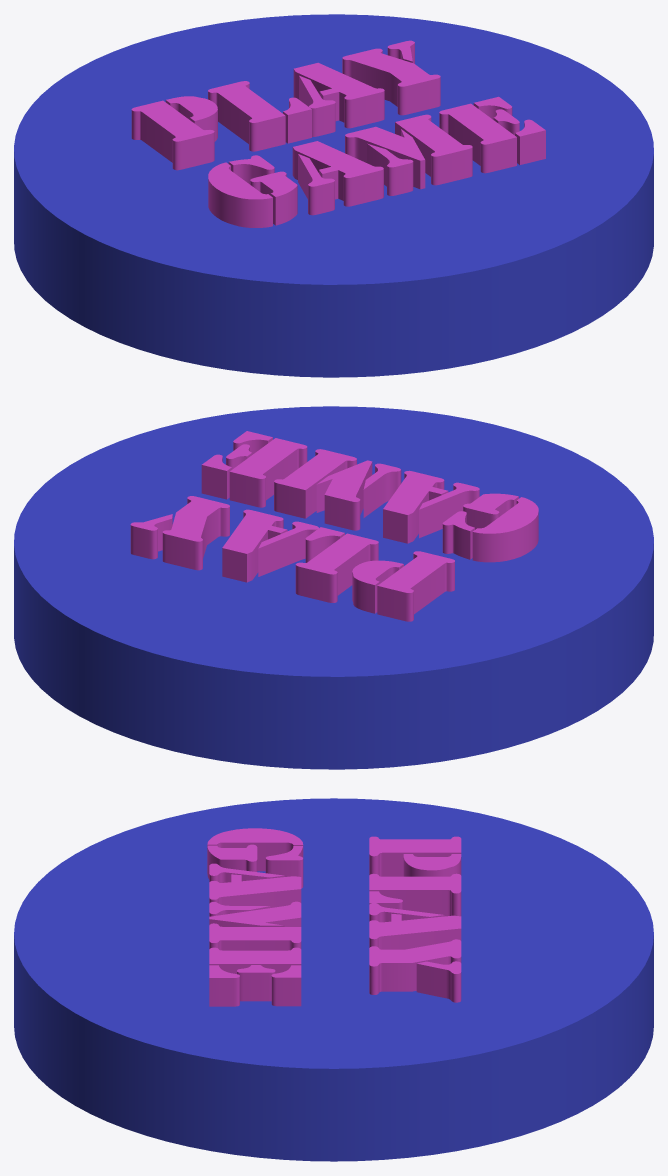
Rendered from buttonPlay.fbx.
3 renders of one model, top to bottom at view 1: azimuth 30°, elevation 25°; view 2: azimuth 150°, elevation 25°; view 3: azimuth 270°, elevation 25°, orthographic.
Parts seen in each view (by area): view 1: root, node_id118 (×2); view 2: root, node_id118 (×2); view 3: root, node_id118 (×2).
Part boxes in pixels (x1,y1,x2,y2): root: (14,14,653,377); node_id118 (×2): (131,40,545,227); root: (14,406,653,769); node_id118 (×2): (130,431,538,621); root: (14,798,653,1161); node_id118 (×2): (207,828,461,1006).
Bounding box in the file's own units: 0.4953 × 0.1035 × 0.4953.
3 materials, 2 textured.
